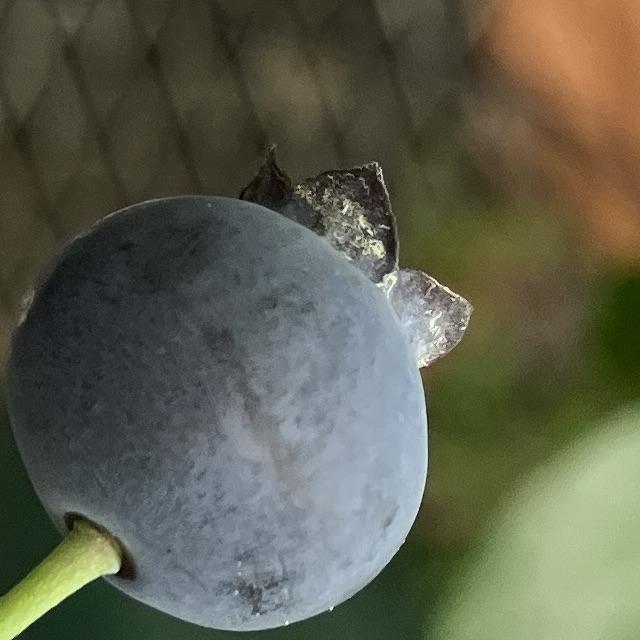Blueberries: (0, 149, 471, 636)
